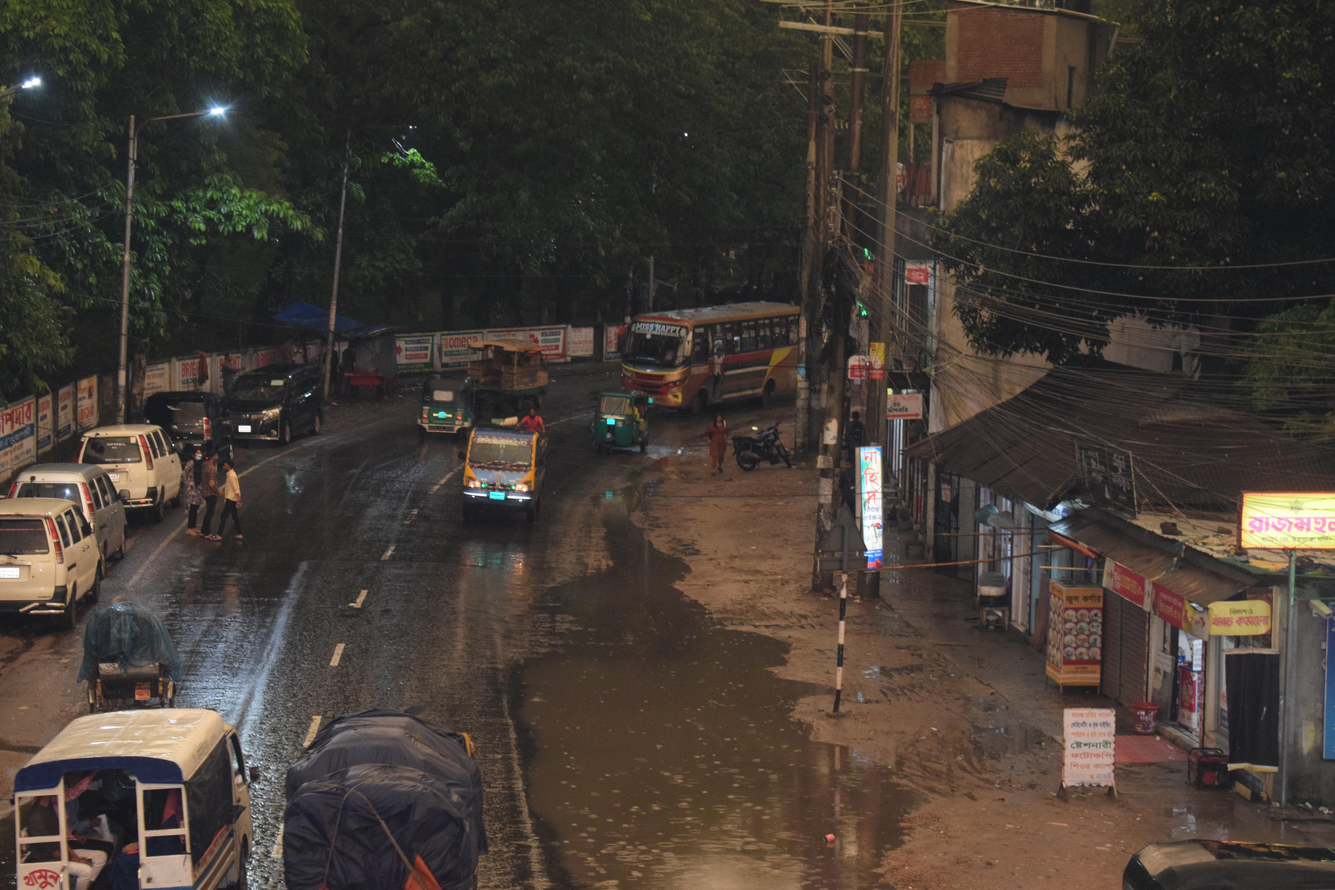Bike: (726, 407, 811, 484)
Bus: (604, 279, 830, 420)
Car: (0, 674, 293, 890), (60, 578, 206, 733), (0, 478, 113, 662), (50, 409, 199, 540), (190, 342, 337, 456), (118, 370, 250, 496), (7, 451, 136, 578), (451, 327, 569, 427)
Truck: (263, 677, 533, 890), (446, 395, 594, 562)
